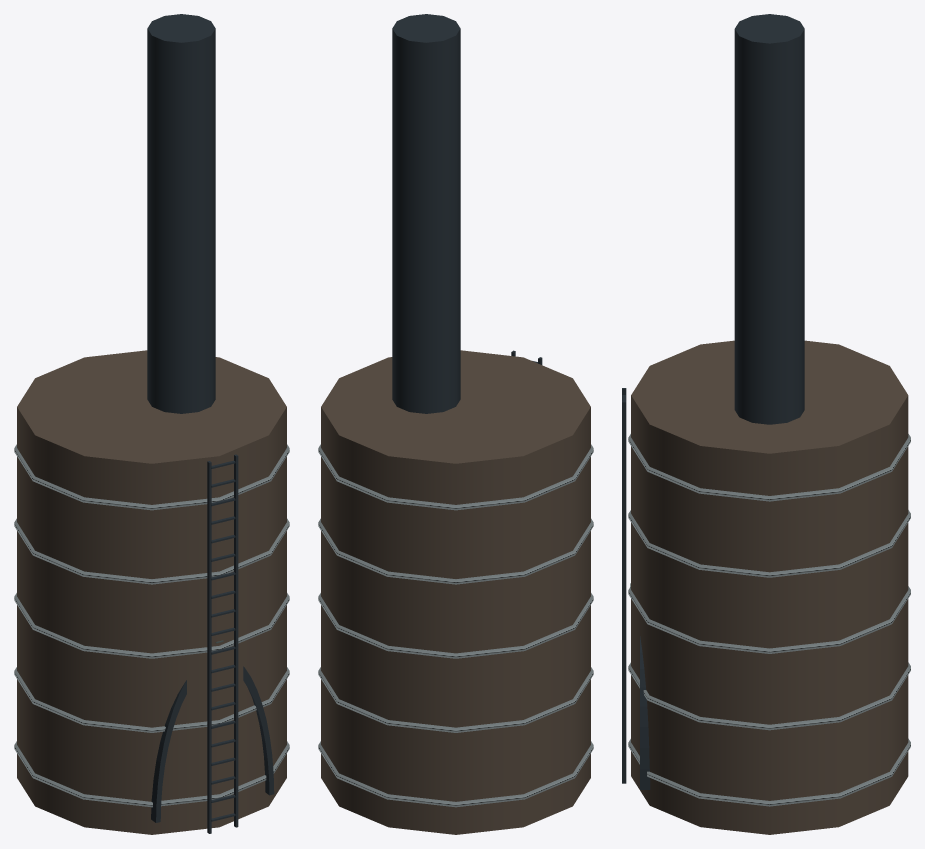
The model's file is furnace-3.glb.
3 renders of one model, left to right at view 1: azimuth 30°, elevation 25°; view 2: azimuth 150°, elevation 25°; view 3: azimuth 270°, elevation 25°, orthographic. The views are drawn at different scales.
Parts seen in each view (by area): view 1: furnace/2/KR-230-3; view 2: furnace/2/KR-230-3; view 3: furnace/2/KR-230-3.
Boxes of the visible parts, x1,y1,x2,y2 form: furnace/2/KR-230-3: [14, 14, 289, 834]; furnace/2/KR-230-3: [318, 14, 593, 834]; furnace/2/KR-230-3: [622, 14, 910, 834].
Bounding box in the file's own units: 8.06 × 24 × 8.25.
